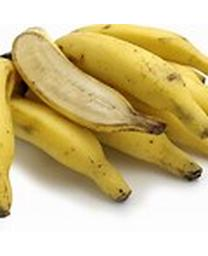banana: (7, 26, 205, 193)
